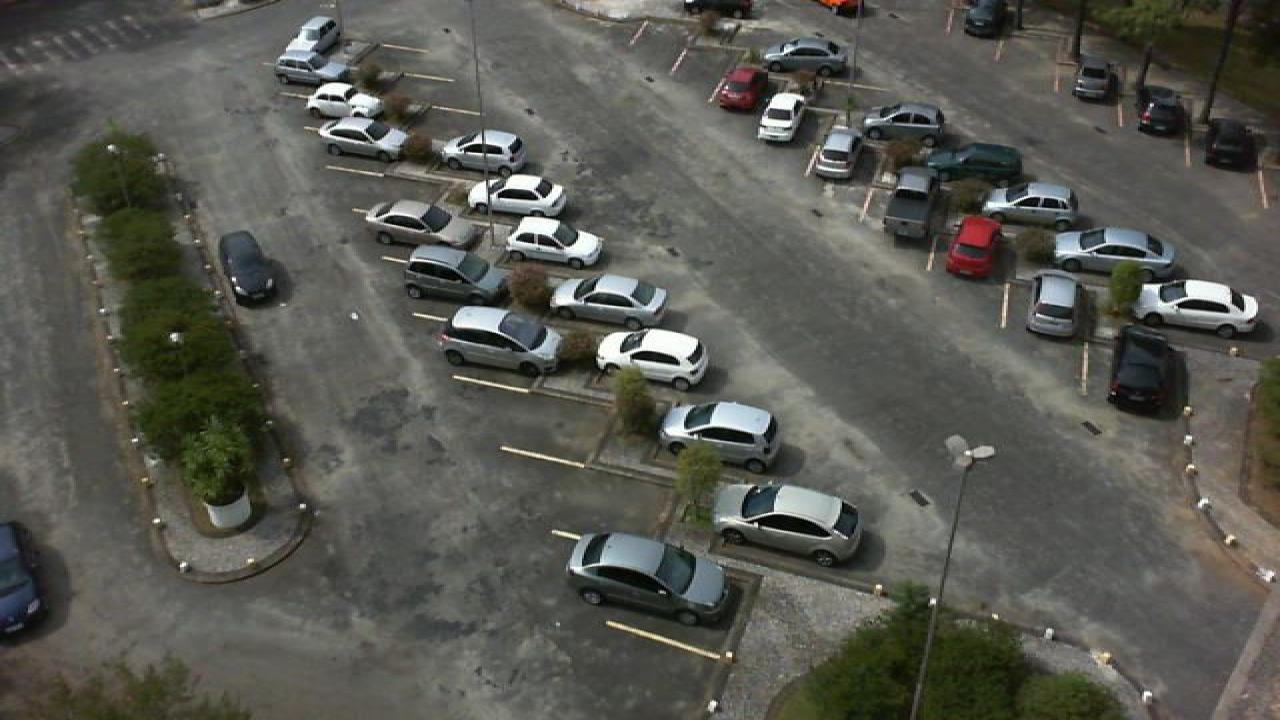Car: (566, 532, 730, 627), (710, 480, 864, 565), (658, 399, 782, 474), (436, 304, 564, 376), (1132, 279, 1260, 339), (1108, 324, 1188, 416), (546, 272, 670, 331), (594, 328, 710, 391), (400, 244, 506, 304), (1052, 226, 1174, 278), (366, 198, 474, 249), (504, 215, 604, 269), (464, 172, 568, 221), (978, 181, 1078, 227), (884, 166, 940, 240), (1024, 271, 1084, 340), (438, 128, 526, 174), (316, 117, 408, 161), (922, 142, 1026, 180), (944, 215, 1004, 278), (760, 36, 848, 74), (272, 50, 358, 86), (302, 82, 382, 120), (862, 103, 944, 140), (808, 124, 860, 182), (1200, 117, 1258, 169), (284, 16, 340, 66), (712, 66, 768, 112), (756, 91, 804, 144), (1136, 83, 1186, 132), (1070, 52, 1114, 99), (964, 0, 1008, 36)
